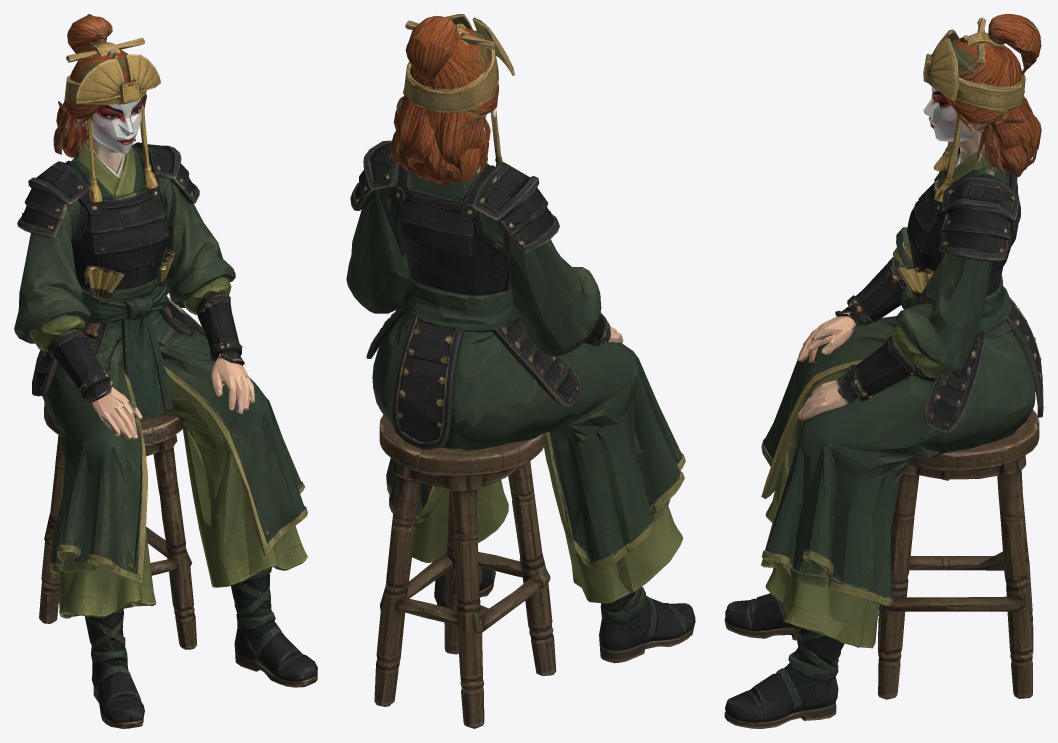
File: kyoshi.glb
The picture shows the model from 3 angles, left to right: view 1: azimuth 30°, elevation 25°; view 2: azimuth 150°, elevation 25°; view 3: azimuth 270°, elevation 25°; orthographic projection. The views are drawn at different scales.
Visible parts, largest first — view 1: Mesh_0; view 2: Mesh_0; view 3: Mesh_0.
Boxes of the visible parts, x1,y1,x2,y2 form: Mesh_0: (14, 14, 317, 728); Mesh_0: (346, 14, 695, 728); Mesh_0: (724, 14, 1043, 728).
Size of the model in its own units: 0.8193 by 1.9 by 0.8351.
Materials: 1 (1 with a texture image).
